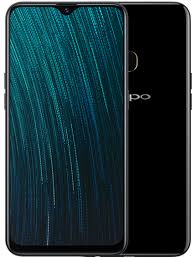oppo: (3, 1, 129, 253), (123, 1, 196, 258)
